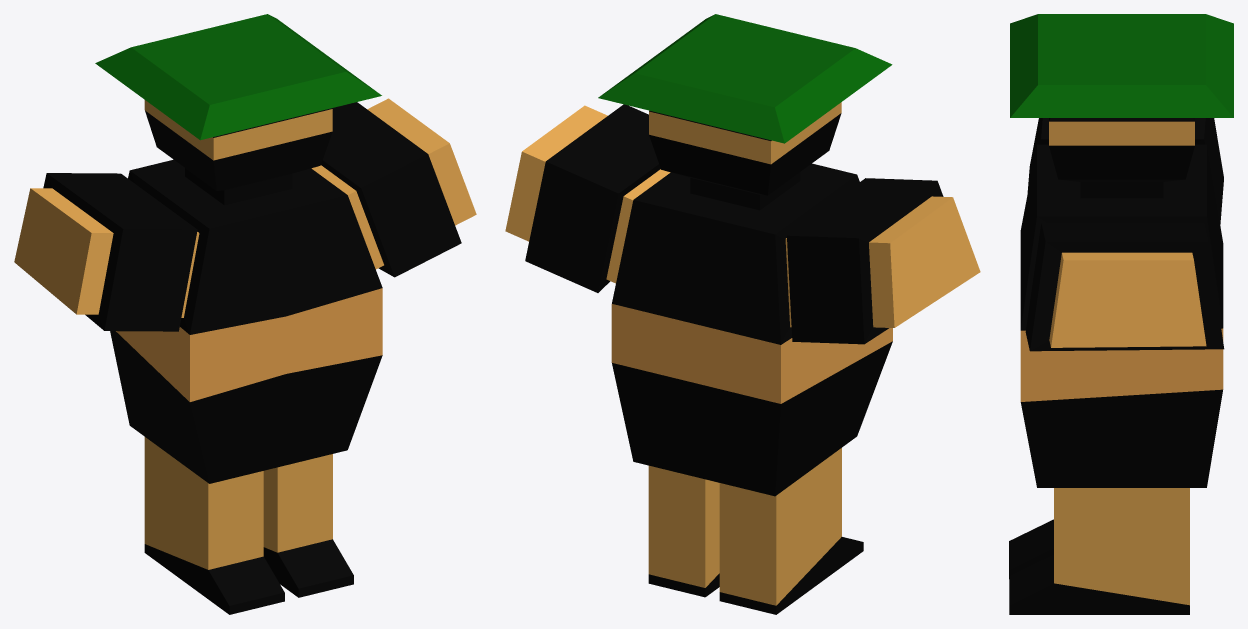
Rendered from boneco.gltf.
The picture shows the model from 3 angles, left to right: view 1: azimuth 30°, elevation 25°; view 2: azimuth 150°, elevation 25°; view 3: azimuth 270°, elevation 25°; orthographic projection. The views are drawn at different scales.
Visible parts, largest first — view 1: Cube; view 2: Cube; view 3: Cube.
Boxes of the visible parts, x1,y1,x2,y2 form: Cube: [14, 14, 476, 614]; Cube: [505, 14, 980, 614]; Cube: [1009, 14, 1233, 614].
Size of the model in its own units: 5.79 by 6.93 by 2.65.
1 material, 1 textured.
